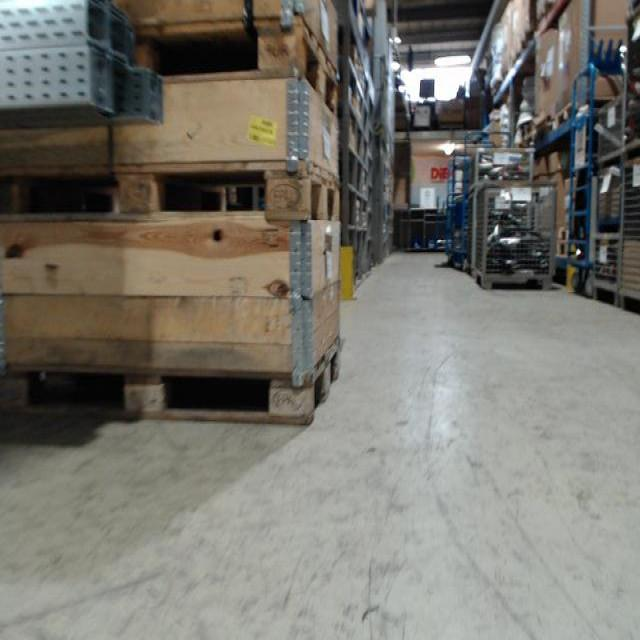pallet: (0, 334, 341, 427), (129, 10, 340, 122), (1, 158, 342, 227), (556, 94, 580, 125)
stillage: (467, 178, 559, 293), (459, 194, 529, 279), (586, 168, 622, 296), (614, 168, 639, 305), (468, 142, 535, 193), (591, 93, 625, 162)
